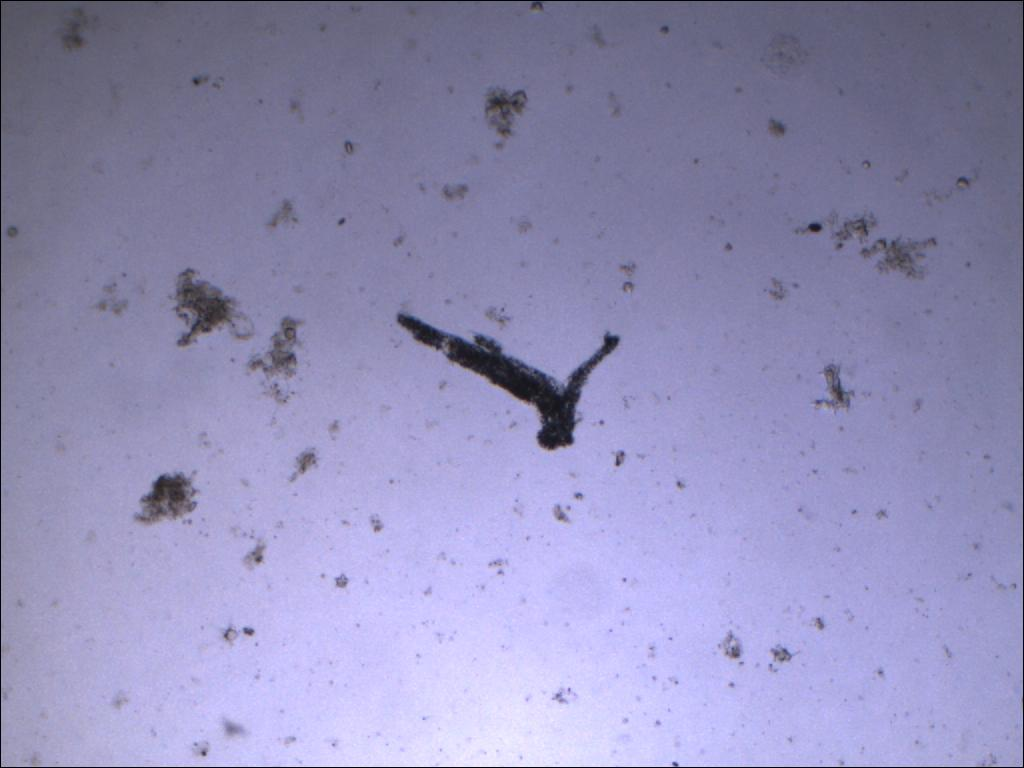amoeba: (390, 303, 626, 456)
